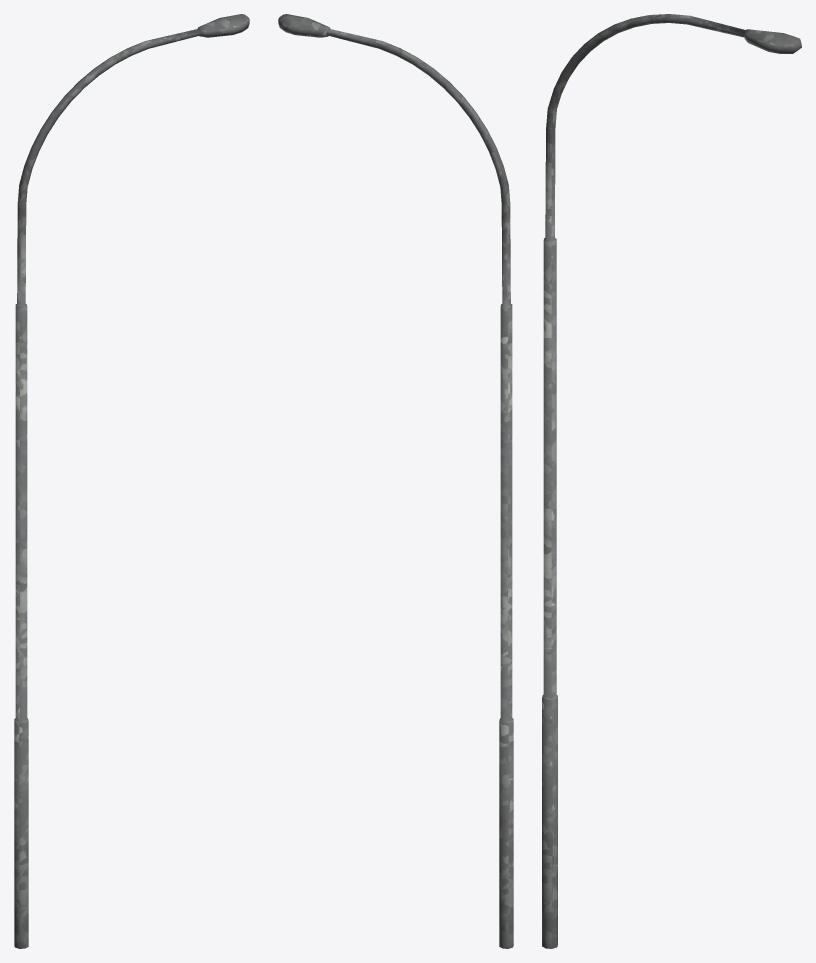
The picture shows the model from 3 angles, left to right: view 1: azimuth 30°, elevation 25°; view 2: azimuth 150°, elevation 25°; view 3: azimuth 330°, elevation 25°; orthographic projection. The views are drawn at different scales.
Parts seen in each view (by area): view 1: lamp; view 2: lamp; view 3: lamp.
Boxes of the visible parts, x1,y1,x2,y2 form: lamp: (14, 14, 249, 948); lamp: (278, 14, 513, 948); lamp: (542, 14, 801, 948).
Bounding box in the file's own units: 2.16 × 7.77 × 0.2536.
Materials: 1 (1 with a texture image).
